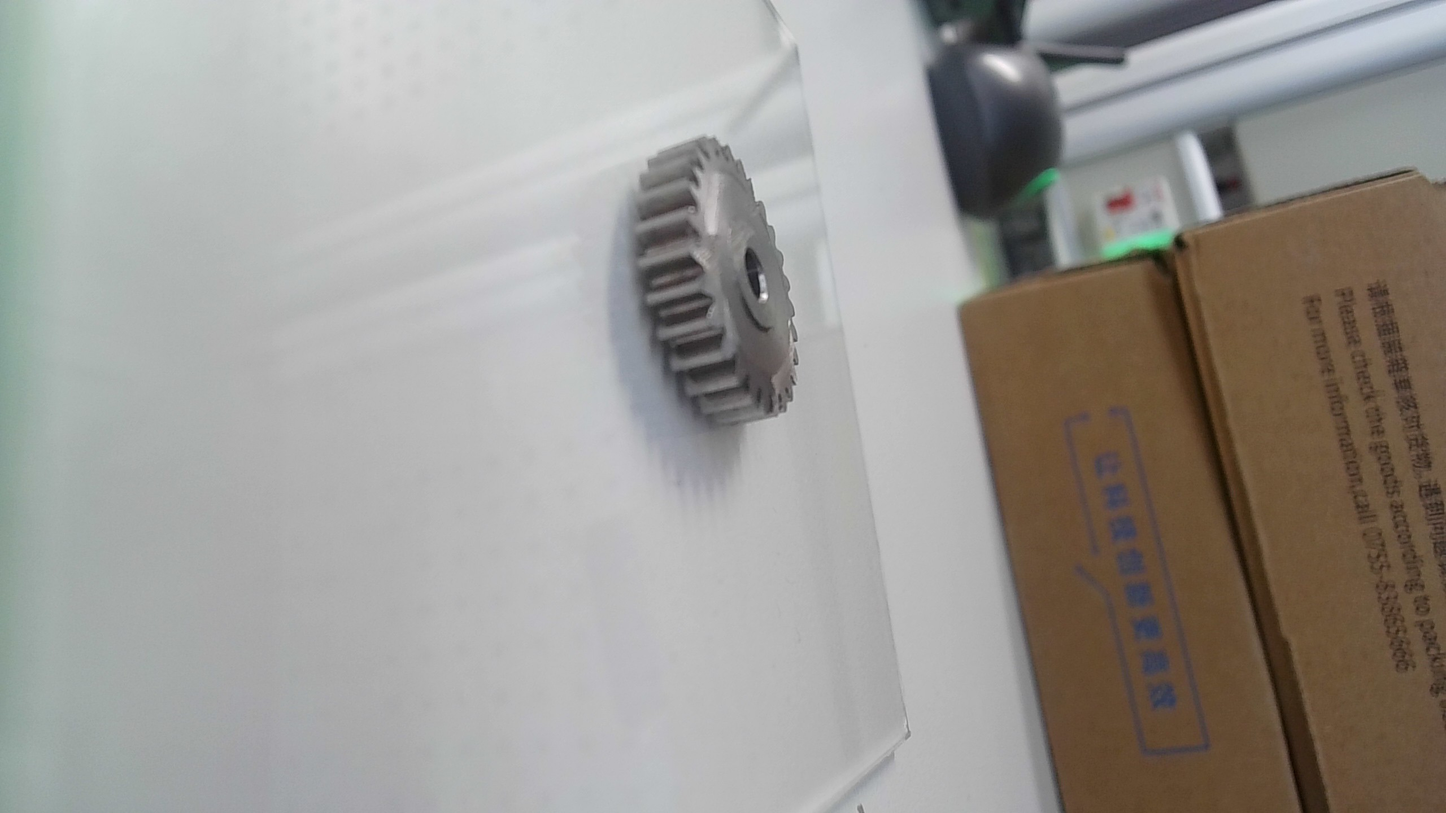gear: (631, 134, 809, 425)
